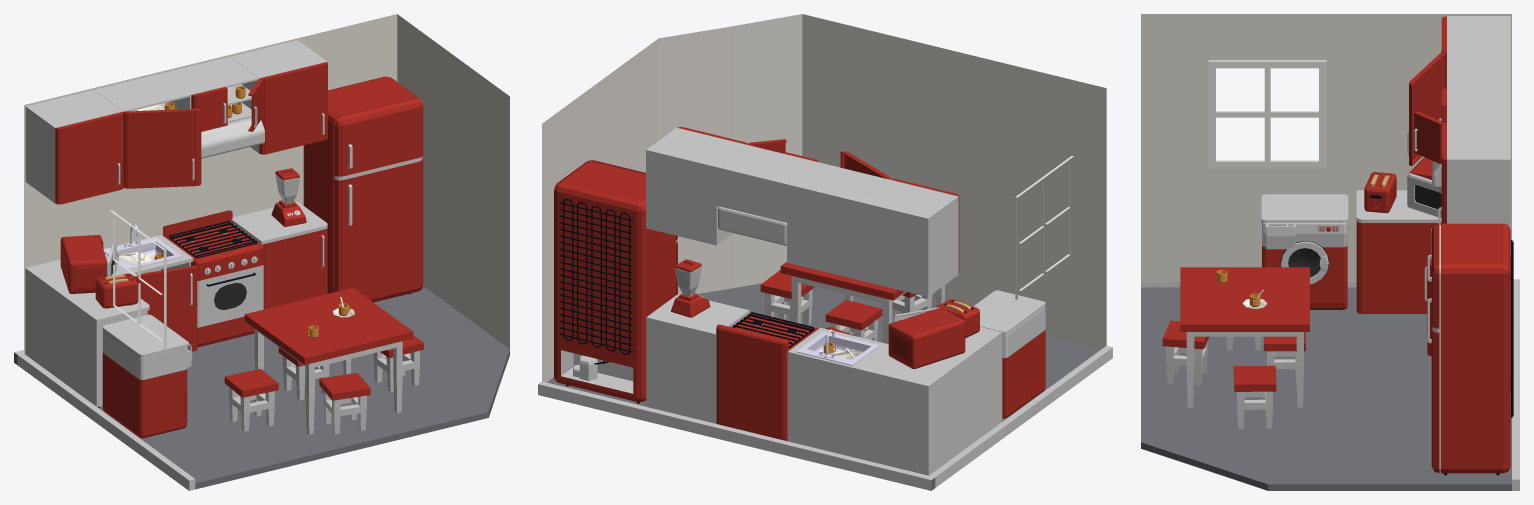
The model's file is kitchen-room.glb.
3 renders of one model, left to right at view 1: azimuth 30°, elevation 25°; view 2: azimuth 150°, elevation 25°; view 3: azimuth 270°, elevation 25°, orthographic. The views are drawn at different scales.
Parts seen in each view (by area): view 1: Room, Object_0_1 1, Object_1_2 34, Object_1_2 2, Object_1_2 9, Object_1_2 35, Object_1_2 4, Object_4_2 33, Object_1_2 14, Object_1_2 5, Object_1_2 17, Object_4_2 10 (+31 smaller); view 2: Room, Object_1_2 14, Object_4_2 34, Object_4_2 10, Object_4_2 26, Object_1_2 36, Object_4_2 14, Object_4_2 12, Object_4_2 5, Object_4_2 2, Object_4_2 7, Object_0_1 1 (+17 smaller); view 3: Room, Object_0_1 1, Object_1_2 14, Object_1_2 2, Object_1_2 40, Object_4_2 12, WindowFrame, Object_4_2 41, Object_4_2 7, Object_4_2 5, Object_4_2 10, Object_1_2 33 (+22 smaller).
Part boxes in pixels (left/top/right/bottom): Room: left=24, top=14, right=509, bottom=353; Object_0_1 1: left=99, top=286, right=509, bottom=489; Object_1_2 34: left=334, top=158, right=423, bottom=302; Object_1_2 2: left=244, top=288, right=413, bottom=364; Object_1_2 9: left=123, top=108, right=201, bottom=188; Object_1_2 35: left=334, top=98, right=423, bottom=176; Object_1_2 4: left=55, top=112, right=123, bottom=204; Object_4_2 33: left=57, top=289, right=149, bottom=407; Object_1_2 14: left=303, top=76, right=419, bottom=293; Object_1_2 5: left=259, top=62, right=327, bottom=154; Object_1_2 17: left=102, top=352, right=185, bottom=438; Object_4_2 10: left=25, top=90, right=123, bottom=203; Room: left=542, top=14, right=1106, bottom=382; Object_1_2 14: left=554, top=161, right=676, bottom=402; Object_4_2 34: left=858, top=347, right=961, bottom=475; Object_4_2 10: left=857, top=179, right=958, bottom=296; Object_4_2 26: left=538, top=345, right=1112, bottom=490; Object_1_2 36: left=716, top=313, right=817, bottom=441; Object_4_2 14: left=646, top=294, right=749, bottom=423; Object_4_2 12: left=646, top=127, right=746, bottom=245; Object_4_2 5: left=787, top=162, right=887, bottom=279; Object_4_2 2: left=787, top=327, right=888, bottom=458; Object_4_2 7: left=716, top=145, right=816, bottom=222; Object_0_1 1: left=547, top=283, right=1101, bottom=421; Room: left=1141, top=14, right=1511, bottom=287; Object_0_1 1: left=1141, top=287, right=1511, bottom=490; Object_1_2 14: left=1441, top=223, right=1510, bottom=473; Object_1_2 2: left=1180, top=267, right=1309, bottom=331; Object_1_2 40: left=1356, top=221, right=1441, bottom=313; Object_4_2 12: left=1447, top=123, right=1510, bottom=229; WindowFrame: left=1208, top=60, right=1326, bottom=168; Object_4_2 41: left=1261, top=194, right=1348, bottom=222; Object_4_2 7: left=1447, top=87, right=1510, bottom=123; Object_4_2 5: left=1447, top=52, right=1510, bottom=87; Object_4_2 10: left=1447, top=16, right=1510, bottom=51; Object_1_2 33: left=1262, top=245, right=1347, bottom=309.
Size of the model in its own units: 3.22 by 2.1 by 2.57.
